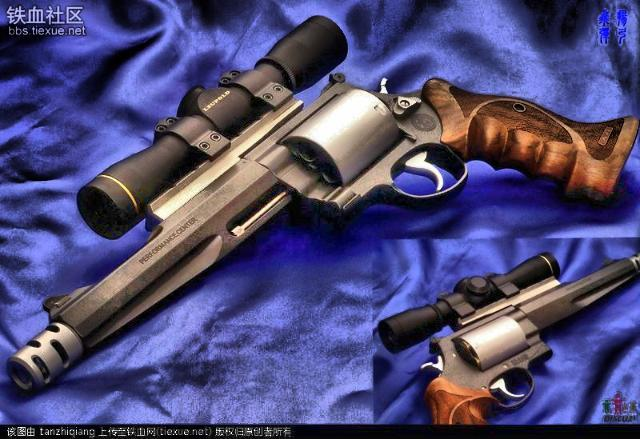pistol: (15, 48, 637, 396), (379, 258, 639, 422)
